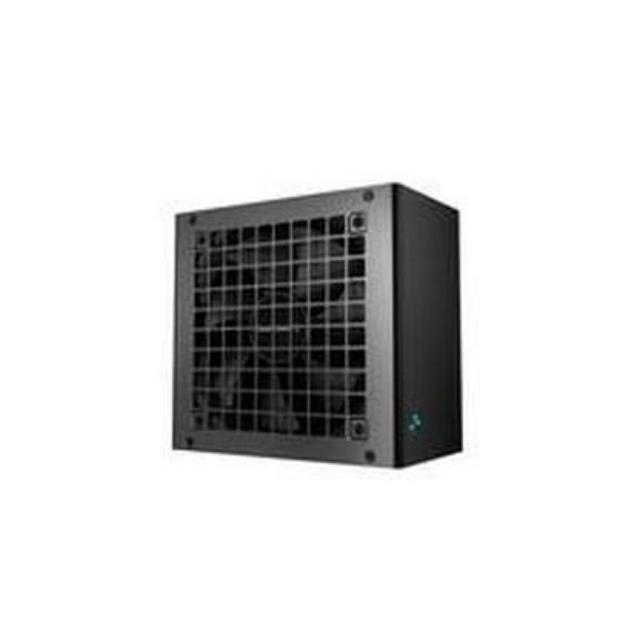PSU: (164, 177, 481, 495)
